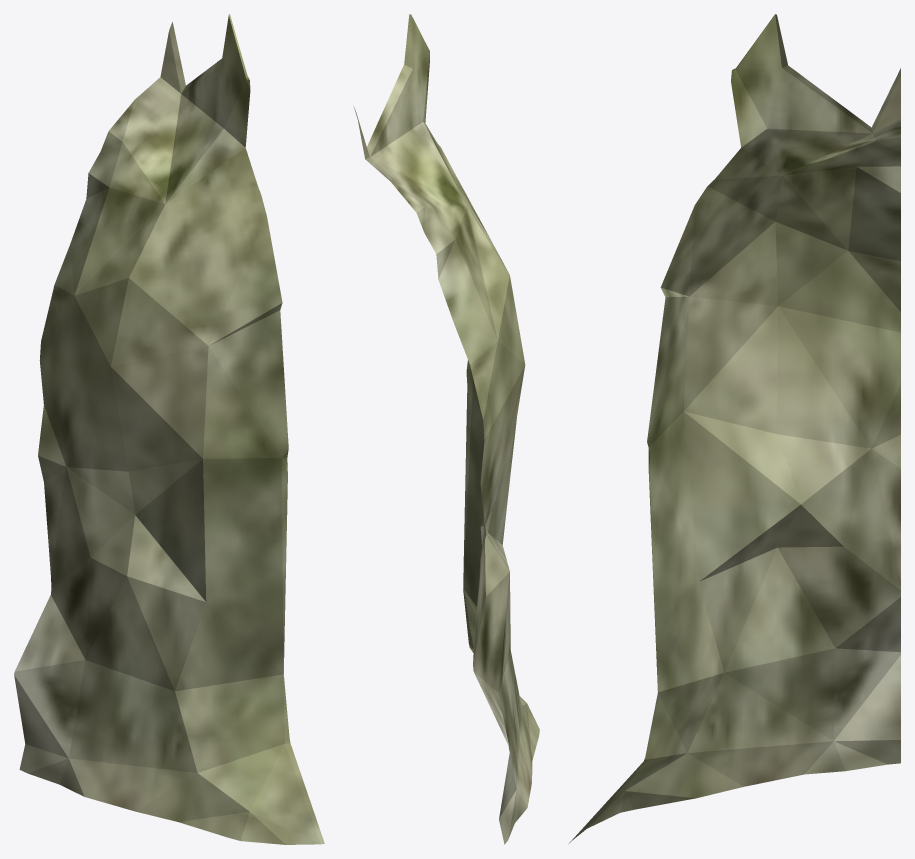
3 renders of one model, left to right at view 1: azimuth 30°, elevation 25°; view 2: azimuth 150°, elevation 25°; view 3: azimuth 270°, elevation 25°, orthographic. The views are drawn at different scales.
Size of the model in its own units: 0.394 by 1.81 by 0.6557.
1 material, 1 textured.
